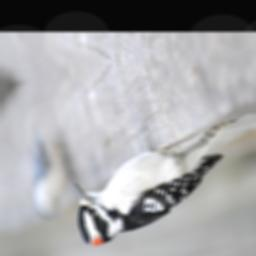Woodpecker: (59, 116, 252, 256)
